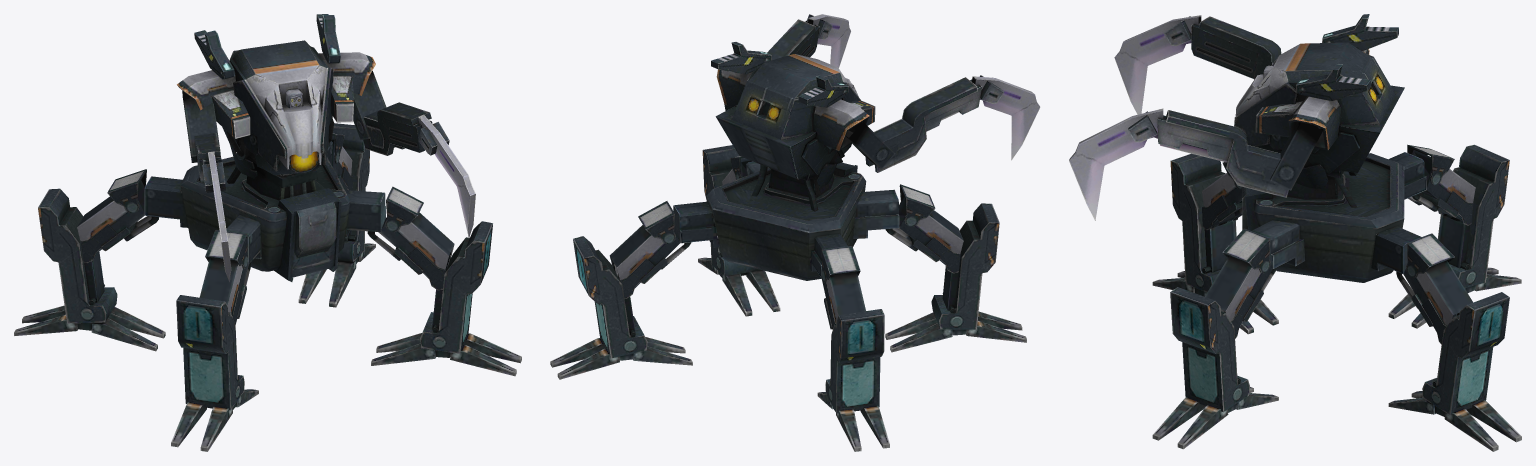
The picture shows the model from 3 angles, left to right: view 1: azimuth 30°, elevation 25°; view 2: azimuth 150°, elevation 25°; view 3: azimuth 270°, elevation 25°; orthographic projection. The views are drawn at different scales.
Visible parts, largest first — view 1: 20_10; view 2: 20_10; view 3: 20_10.
Part boxes in pixels (x1,y1,x2,y2): 20_10: (14, 14, 521, 451); 20_10: (550, 14, 1040, 451); 20_10: (1069, 14, 1521, 451).
Bounding box in the file's own units: 301 × 253 × 320.
